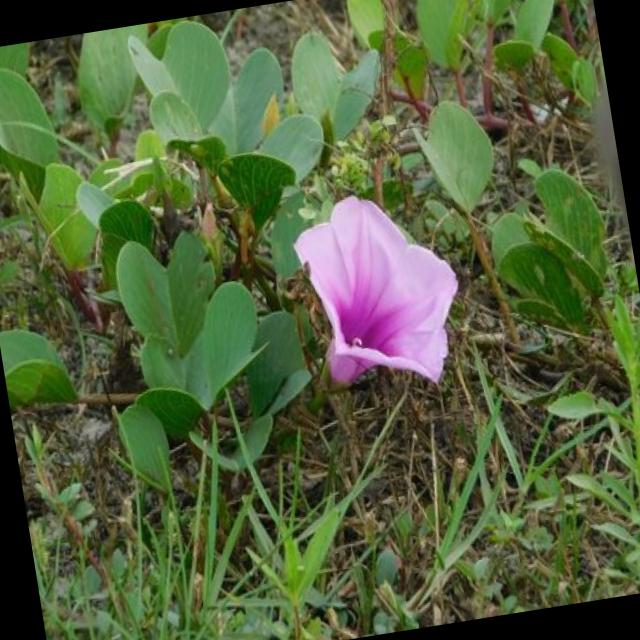ipomoea: (282, 178, 476, 408)
